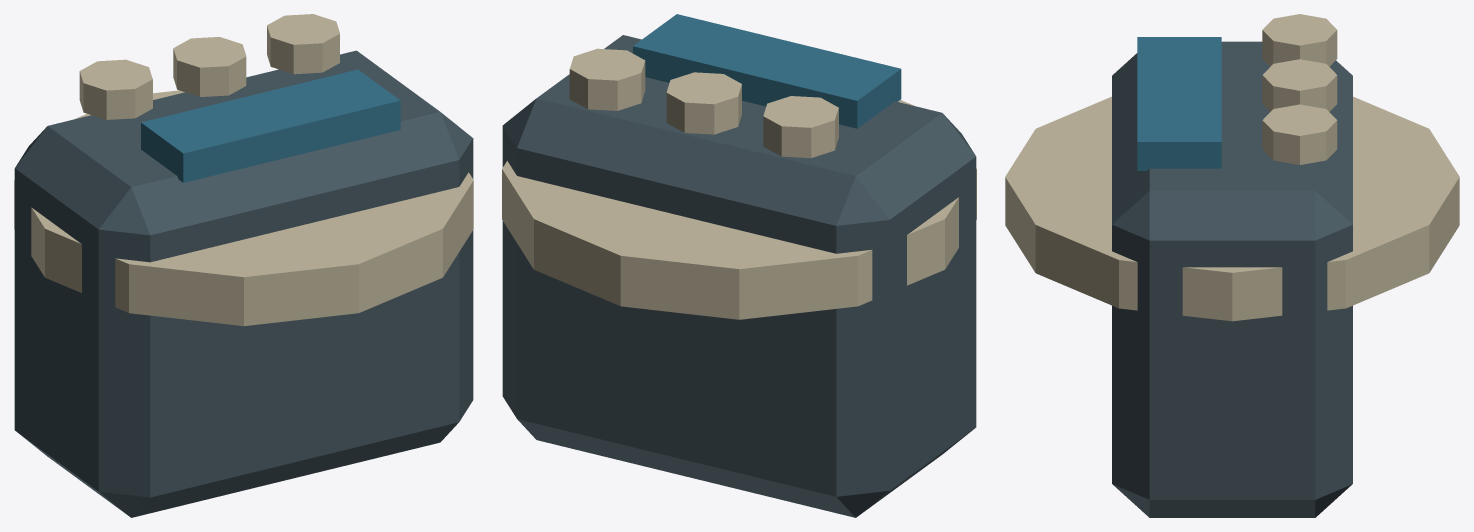
Rendered from set_mini_centrifuge.glb.
3 renders of one model, left to right at view 1: azimuth 30°, elevation 25°; view 2: azimuth 150°, elevation 25°; view 3: azimuth 270°, elevation 25°, orthographic. The views are drawn at different scales.
Visible parts, largest first — view 1: set_mini_centrifuge; view 2: set_mini_centrifuge; view 3: set_mini_centrifuge.
Part boxes in pixels (x1,y1,x2,y2): set_mini_centrifuge: (14, 14, 473, 517); set_mini_centrifuge: (502, 14, 976, 517); set_mini_centrifuge: (1005, 14, 1459, 517).
Size of the model in its own units: 0.17 by 0.152 by 0.17.
